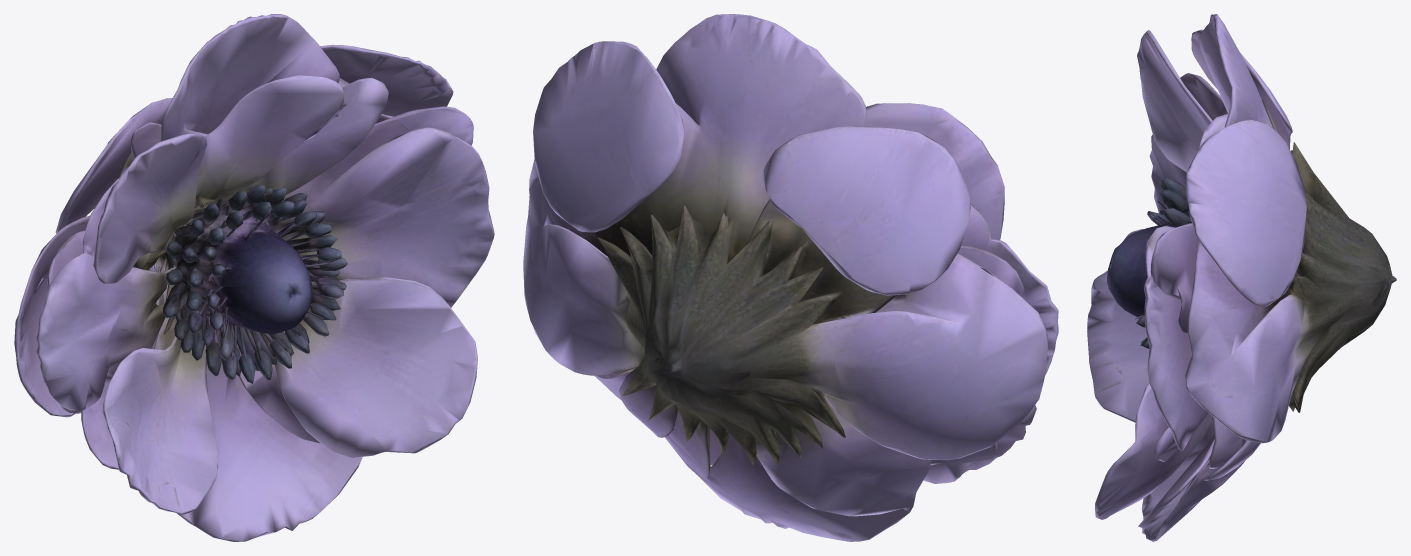
The model's file is fl-flower-anemone.glb.
3 views of the same model, side by side, from view 1: azimuth 30°, elevation 25°; view 2: azimuth 150°, elevation 25°; view 3: azimuth 270°, elevation 25° (orthographic). The views are drawn at different scales.
Parts seen in each view (by area): view 1: node_0; view 2: node_0; view 3: node_0.
Boxes of the visible parts, box(x1,y1,x2,y2) form: node_0: box(14, 14, 494, 541); node_0: box(523, 14, 1058, 541); node_0: box(1087, 14, 1396, 541).
Size of the model in its own units: 1.11 by 1.1 by 0.6099.
Materials: 1 (1 with a texture image).
